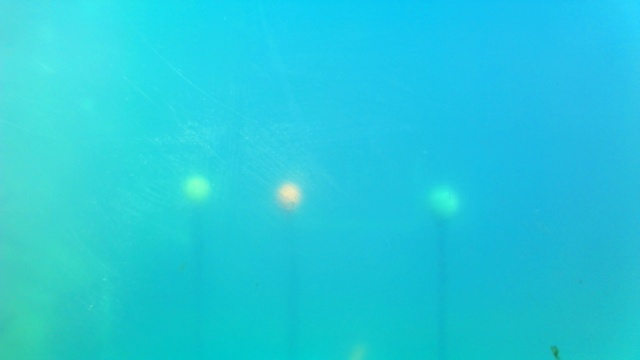buoy_red: (276, 181, 301, 212)
